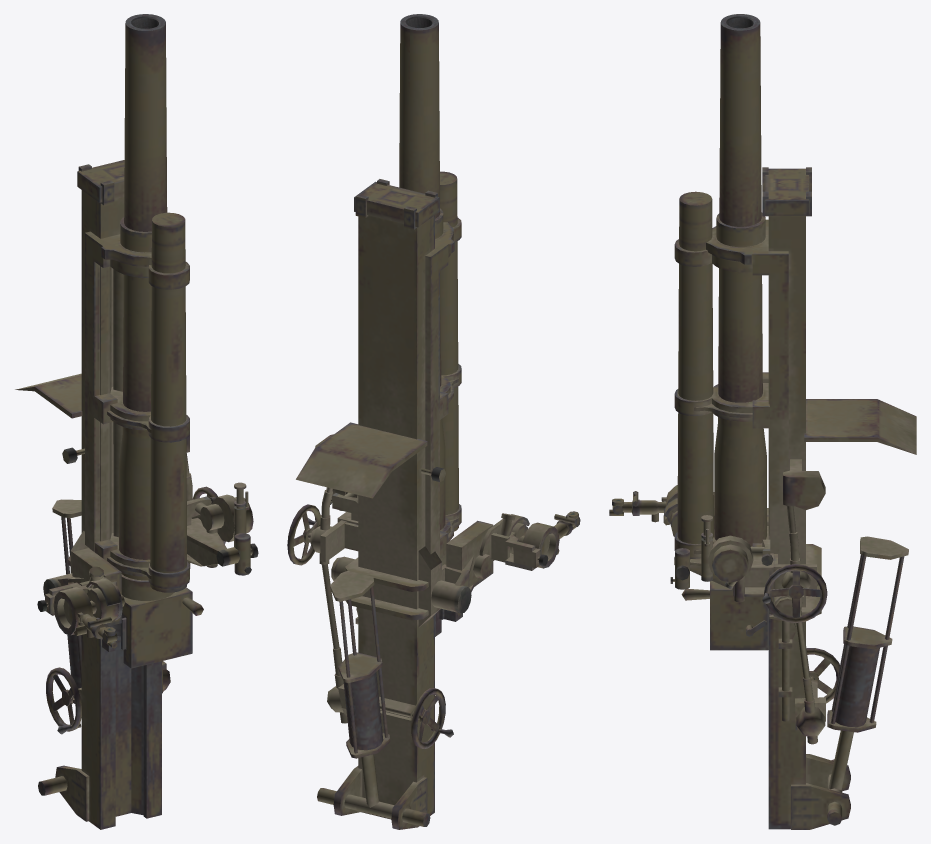
Rendered from Gun_02.glb.
3 views of the same model, side by side, from view 1: azimuth 30°, elevation 25°; view 2: azimuth 150°, elevation 25°; view 3: azimuth 270°, elevation 25° (orthographic). The views are drawn at different scales.
Parts seen in each view (by area): view 1: set_0_group_0; view 2: set_0_group_0; view 3: set_0_group_0.
Boxes of the visible parts, x1,y1,x2,y2 form: set_0_group_0: [15, 14, 258, 829]; set_0_group_0: [287, 14, 580, 829]; set_0_group_0: [609, 14, 916, 829].
Size of the model in its own units: 1.02 by 3.46 by 1.22.
1 material, 1 textured.
